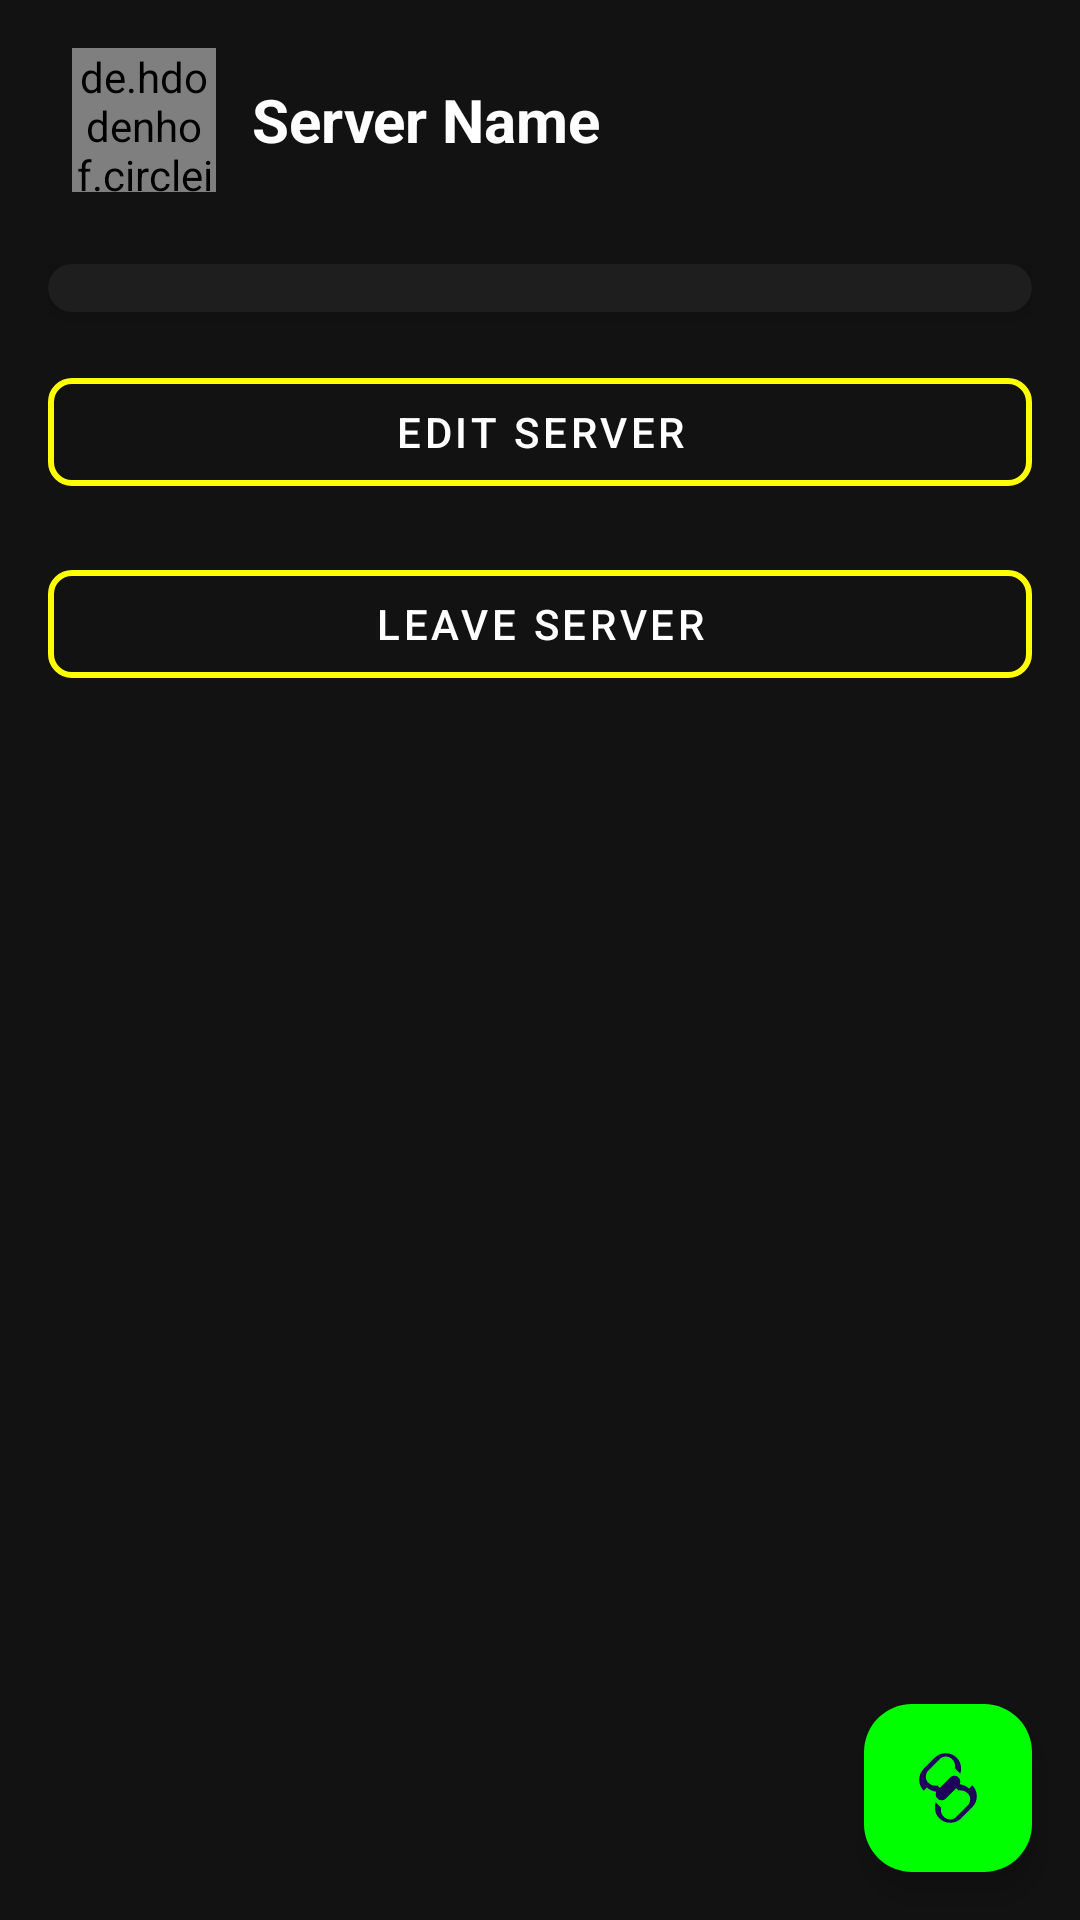

Where icons sit on this 1080 x 1920 app screen, as (x1, y1, x2, y2):
Copy Invite Link: (864, 1704, 1032, 1872)
